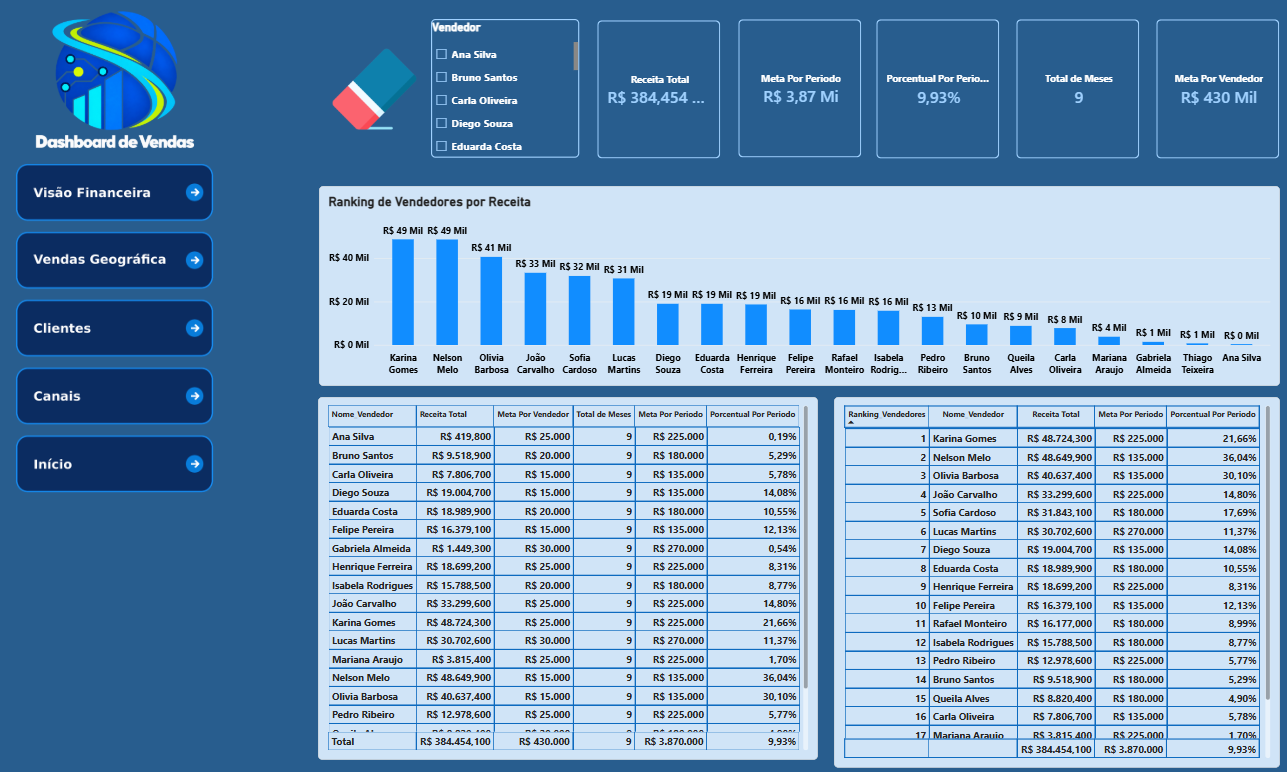

Layout of this report page (visuals, bound fields, positions):
{"tool":"powerbi","page":{"name":"Vendedores ","canvas":[2320,1400],"ordinal":3},"visuals":[{"type":"tableEx","fields":{"Values":["Dim_Vendedores.Ranking_Vendedores","Dim_Vendedores.Nome_Vendedor","FATO_VENDAS.Receita_Total","Dim_Vendedores.Meta_Periodo","Dim_Vendedores.Porcentual_Atingindo_Por_Periodo"]},"box":[1492.1,719.3,794.3,660.2],"z":0},{"type":"clusteredColumnChart","title":"Ranking de Vendedores por Receita","fields":{"Category":["Dim_Vendedores.Nome_Vendedor"],"Y":["FATO_VENDAS.Receita_Total"]},"box":[575.1,343.6,1711.1,356.1],"z":1000},{"type":"tableEx","fields":{"Values":["Dim_Vendedores.Nome_Vendedor","FATO_VENDAS.Receita_Total","Dim_Vendedores.Meta_Vendedor","Dim_Vendedores.Meses_Periodo","Dim_Vendedores.Meta_Periodo","Dim_Vendedores.Porcentual_Atingindo_Por_Periodo"]},"box":[573.3,719.3,890.3,646.3],"z":2000},{"type":"image","box":[573.3,96.1,201.2,149.6],"z":3000},{"type":"cardVisual","fields":{"Data":["FATO_VENDAS.Receita_Total"]},"box":[1070.1,48.1,220.8,247.5],"z":4000},{"type":"cardVisual","fields":{"Data":["Dim_Vendedores.Meta_Periodo"]},"box":[1321.1,46.3,220.8,247.5],"z":5000},{"type":"cardVisual","fields":{"Data":["Dim_Vendedores.Porcentual_Atingindo_Por_Periodo"]},"box":[1566.8,46.3,220.8,249.3],"z":6000},{"type":"cardVisual","fields":{"Data":["Dim_Vendedores.Meses_Periodo"]},"box":[1816.1,46.3,220.8,249.3],"z":7000},{"type":"cardVisual","fields":{"Data":["Dim_Vendedores.Meta_Vendedor"]},"box":[2065.4,46.3,220.8,249.3],"z":8000},{"type":"slicer","title":"Vendedor","fields":{"Values":["Dim_Vendedores.Nome_Vendedor"]},"box":[774.5,46.3,263.5,247.5],"z":9000},{"type":"image","box":[24.1,248.3,372.4,698.3],"z":10000},{"type":"actionButton","box":[36.2,303.4,346.6,103.4],"z":11000},{"type":"actionButton","box":[36.2,420.7,346.6,113.8],"z":12000},{"type":"actionButton","box":[36.2,546.6,346.6,101.7],"z":13000},{"type":"actionButton","box":[36.2,670.7,346.6,96.6],"z":14000},{"type":"actionButton","box":[36.2,789.7,346.6,100],"z":15000},{"type":"image","box":[6.9,0,406.9,303.4],"z":16000}]}

Visuals, with their boxes in screenshot pixels (x1, y1, x2, y2), scaled from the page's 2320x1400 canvas onto the 1287x772 screenshot:
tableEx - Dim_Vendedores.Ranking_Vendedores x Dim_Vendedores.Nome_Vendedor: bbox=(828, 397, 1268, 761)
"Ranking de Vendedores por Receita" clusteredColumnChart: bbox=(319, 189, 1268, 386)
tableEx - Dim_Vendedores.Nome_Vendedor x FATO_VENDAS.Receita_Total: bbox=(318, 397, 812, 753)
image: bbox=(318, 53, 430, 135)
cardVisual - FATO_VENDAS.Receita_Total: bbox=(594, 27, 716, 163)
cardVisual - Dim_Vendedores.Meta_Periodo: bbox=(733, 26, 855, 162)
cardVisual - Dim_Vendedores.Porcentual_Atingindo_Por_Periodo: bbox=(869, 26, 992, 163)
cardVisual - Dim_Vendedores.Meses_Periodo: bbox=(1007, 26, 1130, 163)
cardVisual - Dim_Vendedores.Meta_Vendedor: bbox=(1146, 26, 1268, 163)
"Vendedor" slicer: bbox=(430, 26, 576, 162)
image: bbox=(13, 137, 220, 522)
actionButton: bbox=(20, 167, 212, 224)
actionButton: bbox=(20, 232, 212, 295)
actionButton: bbox=(20, 301, 212, 357)
actionButton: bbox=(20, 370, 212, 423)
actionButton: bbox=(20, 435, 212, 491)
image: bbox=(4, 0, 230, 167)
